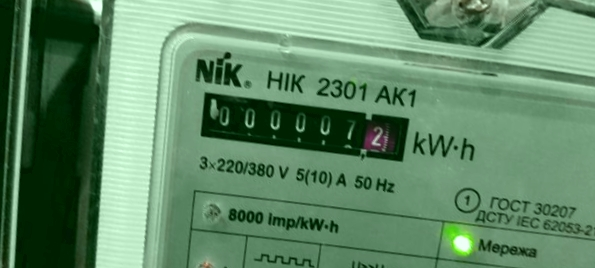0: (216, 102, 233, 127), (293, 109, 310, 134), (242, 105, 258, 129), (268, 107, 284, 131), (318, 112, 334, 136)
2: (369, 123, 386, 148)
7: (343, 115, 358, 141)
screen: (187, 77, 421, 174)
